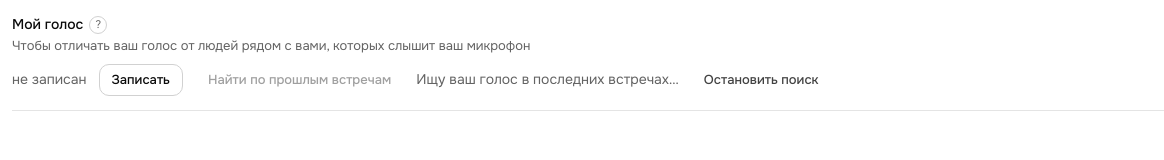
Test: поиск по встречам: «Остановить поиск» снимает задачу
Click the button "Остановить поиск".
click(761, 80)  # box [691,64,832,96]
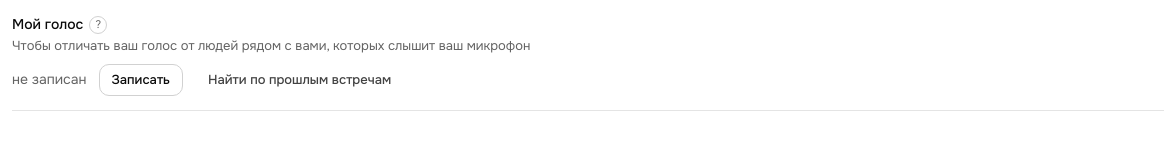
Expected: the text "Ищу ваш голос" is gone
Expected: the button "Найти по прошлым встречам" is enabled, [195,64,404,96]
